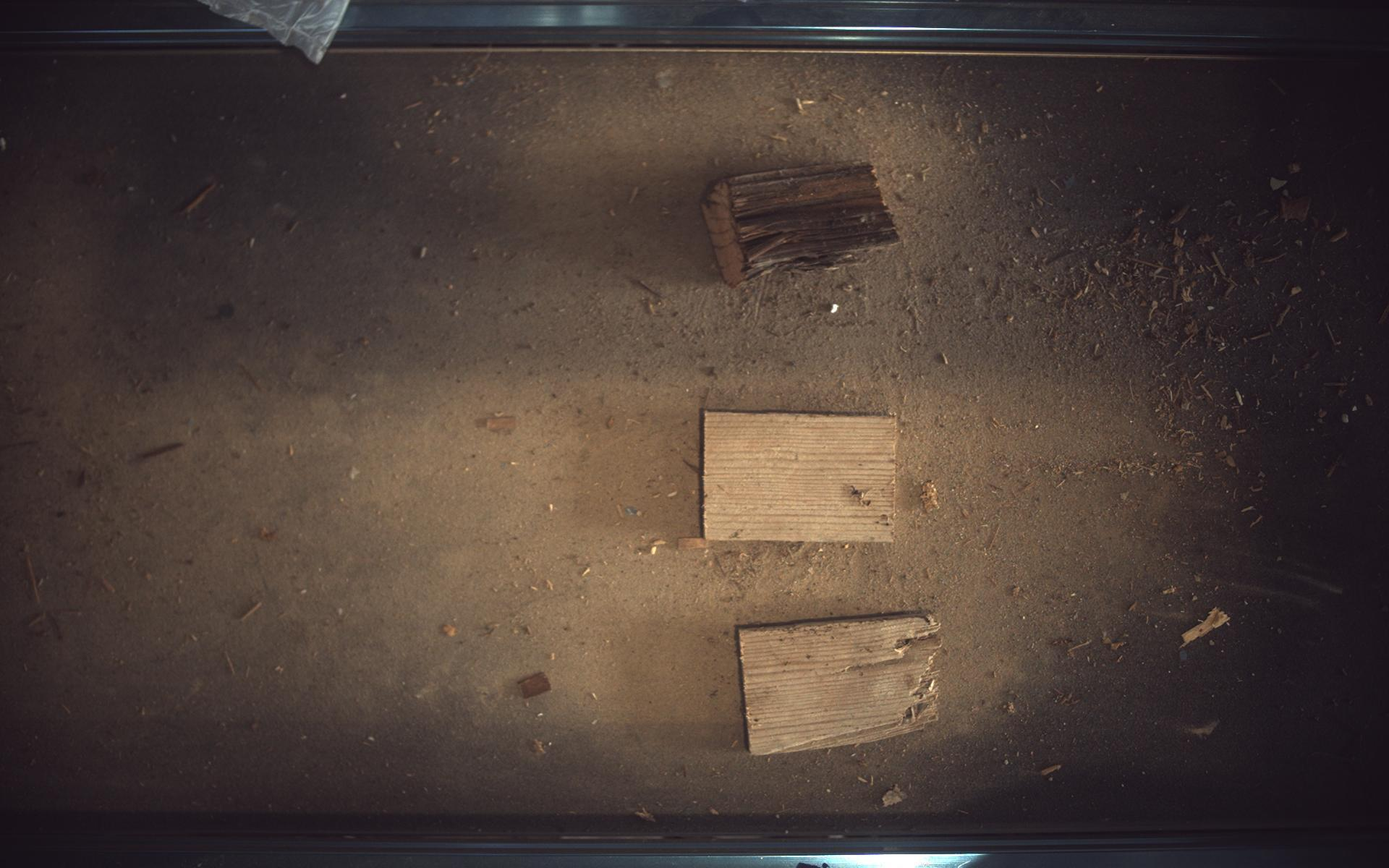wood: (739, 613, 943, 757), (705, 411, 899, 542), (702, 162, 900, 286)
